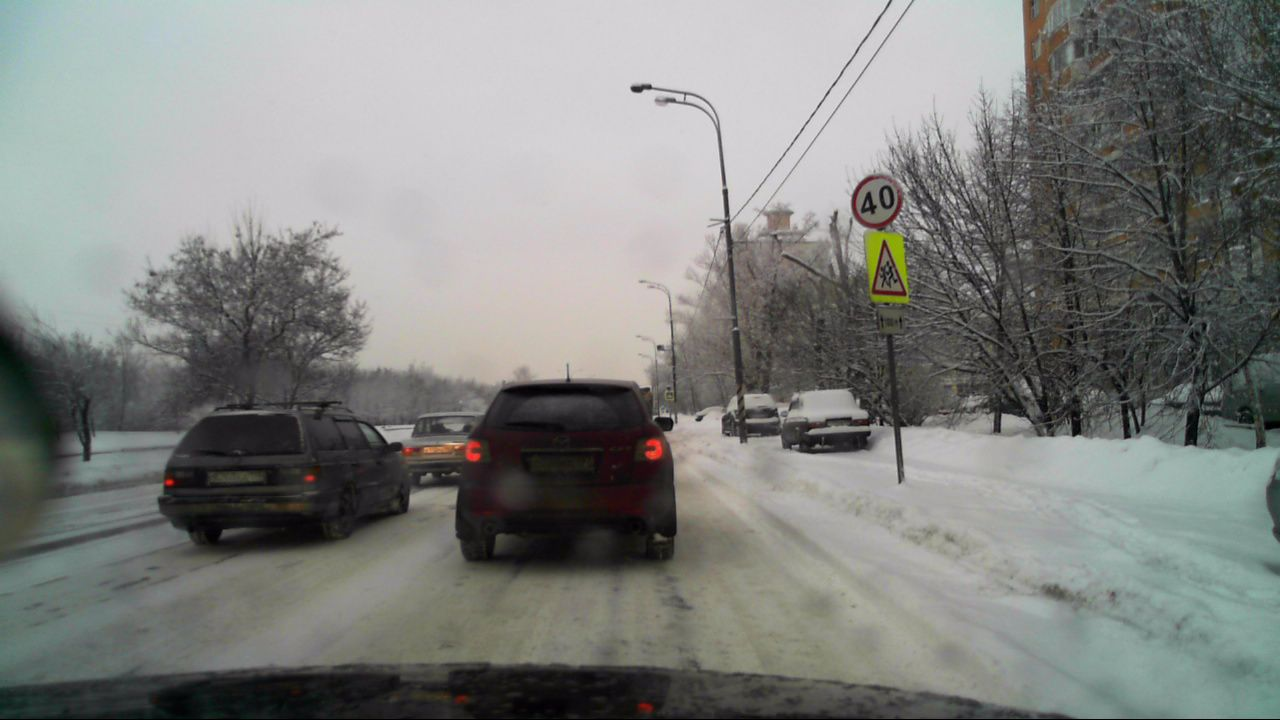speed_warning_40: (848, 172, 903, 229)
